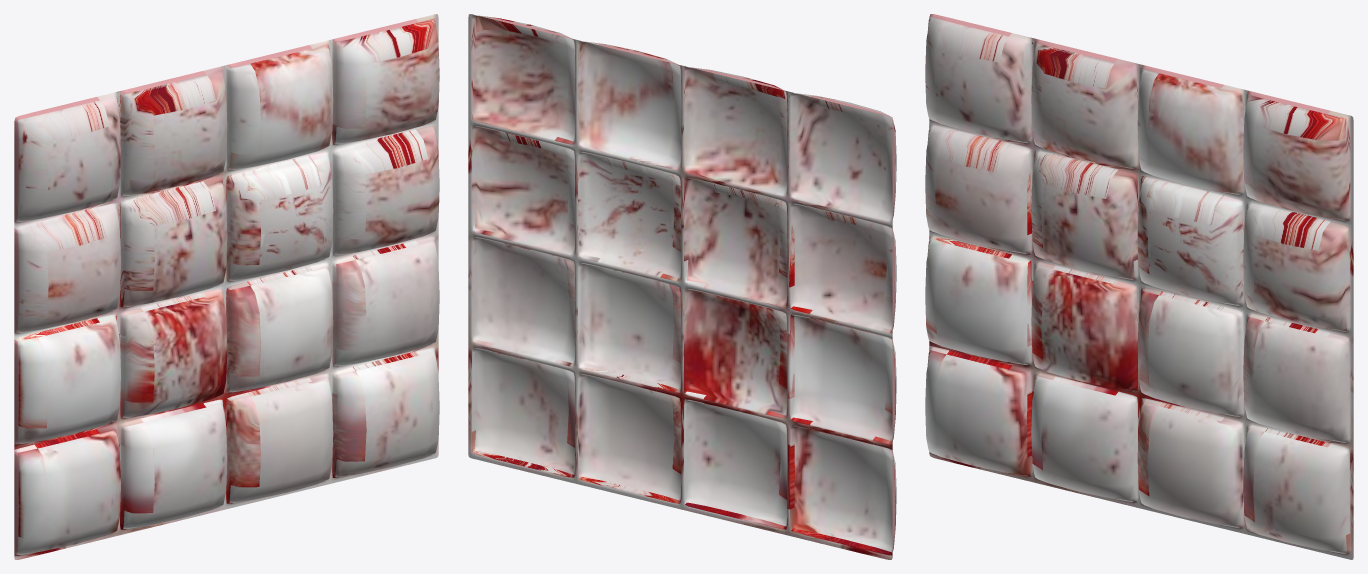
File: Pared_008.fbx
3 views of the same model, side by side, from view 1: azimuth 30°, elevation 25°; view 2: azimuth 150°, elevation 25°; view 3: azimuth 330°, elevation 25° (orthographic).
Visible parts, largest first — view 1: Plane; view 2: Plane; view 3: Plane.
Part boxes in pixels (left/top/right/bottom): Plane: left=14, top=14, right=439, bottom=559; Plane: left=468, top=14, right=896, bottom=559; Plane: left=925, top=14, right=1353, bottom=559.
Bounding box in the file's own units: 600 × 600 × 39.87.
